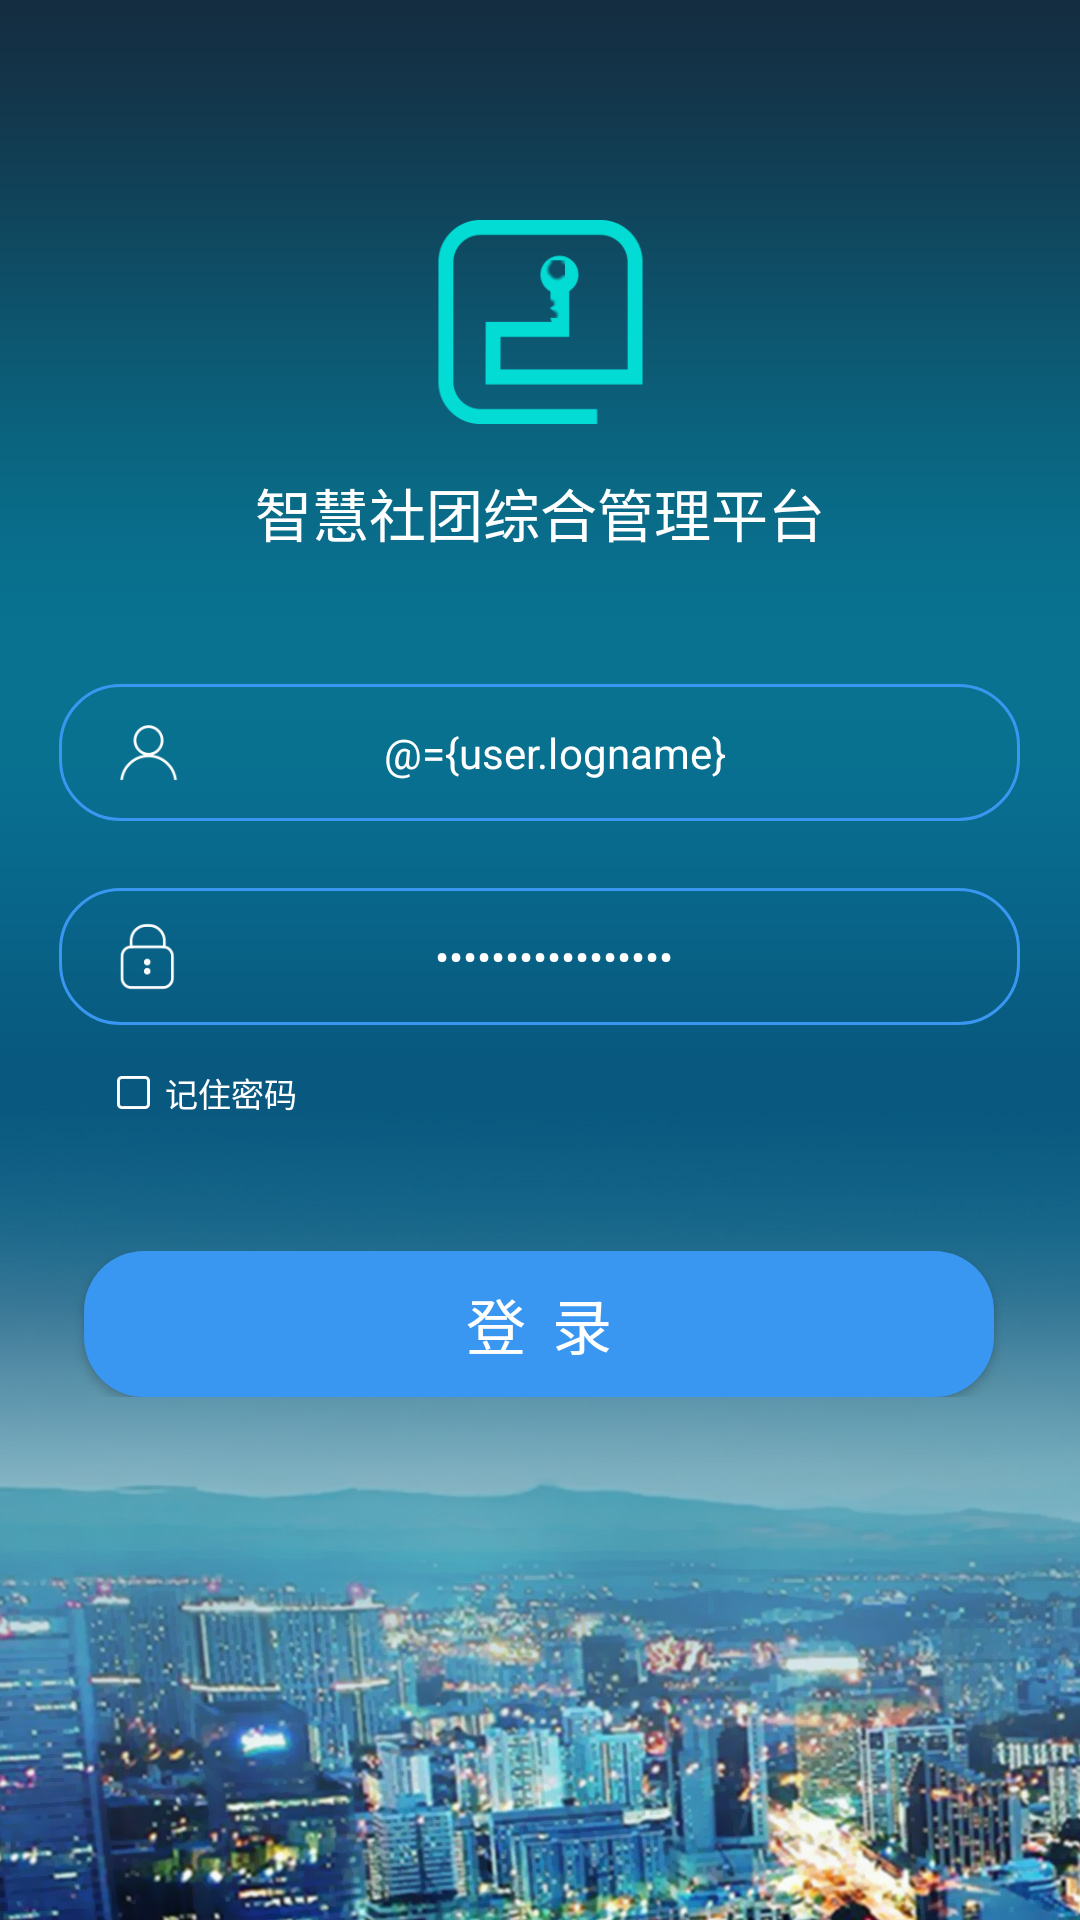

Icons on this 1080x1920 Android screen, each with the point to tap as (x=x, y=y):
login password: (x=147, y=956)
login remember uncheck: (x=133, y=1092)
login username: (x=148, y=752)
